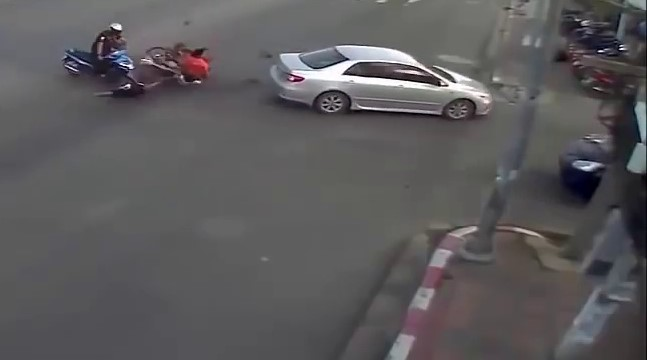car: (269, 42, 495, 119)
motorbike: (65, 22, 137, 88)
